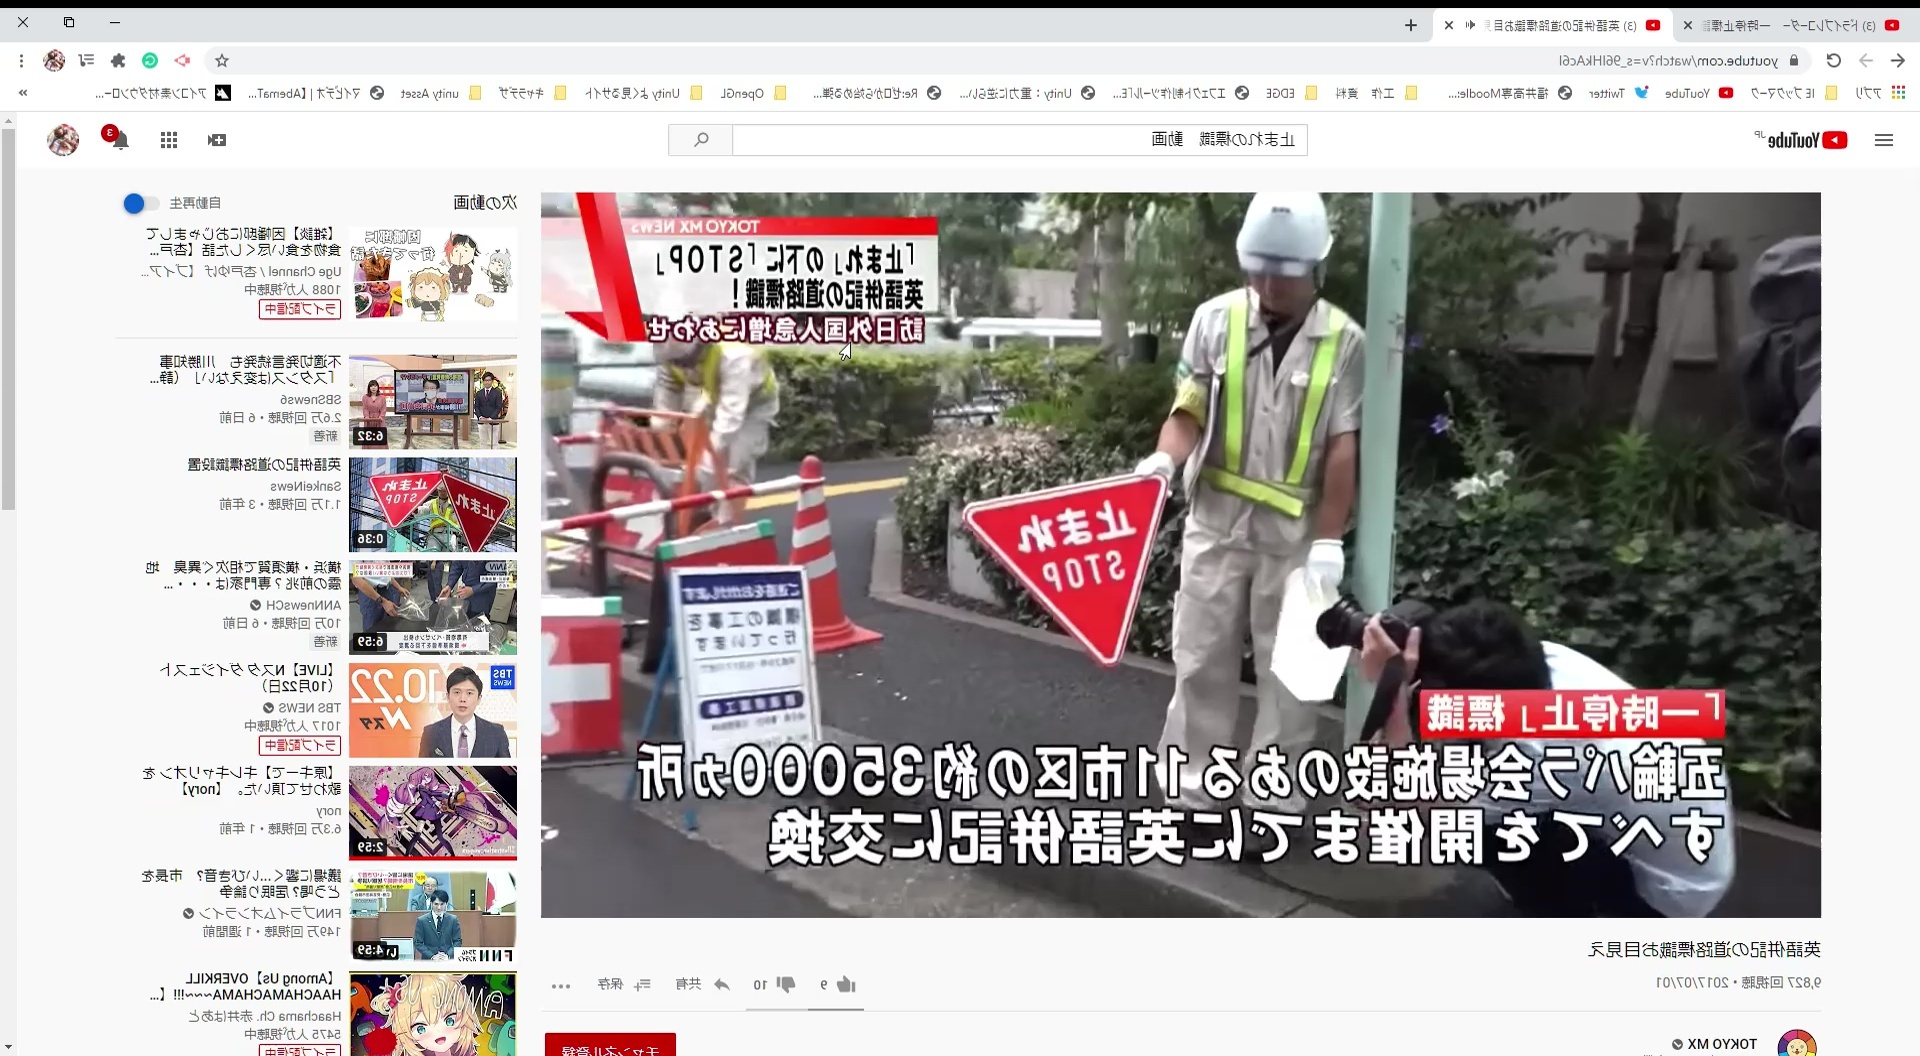Regulatory_sign_triangle: (968, 464, 1193, 668)
